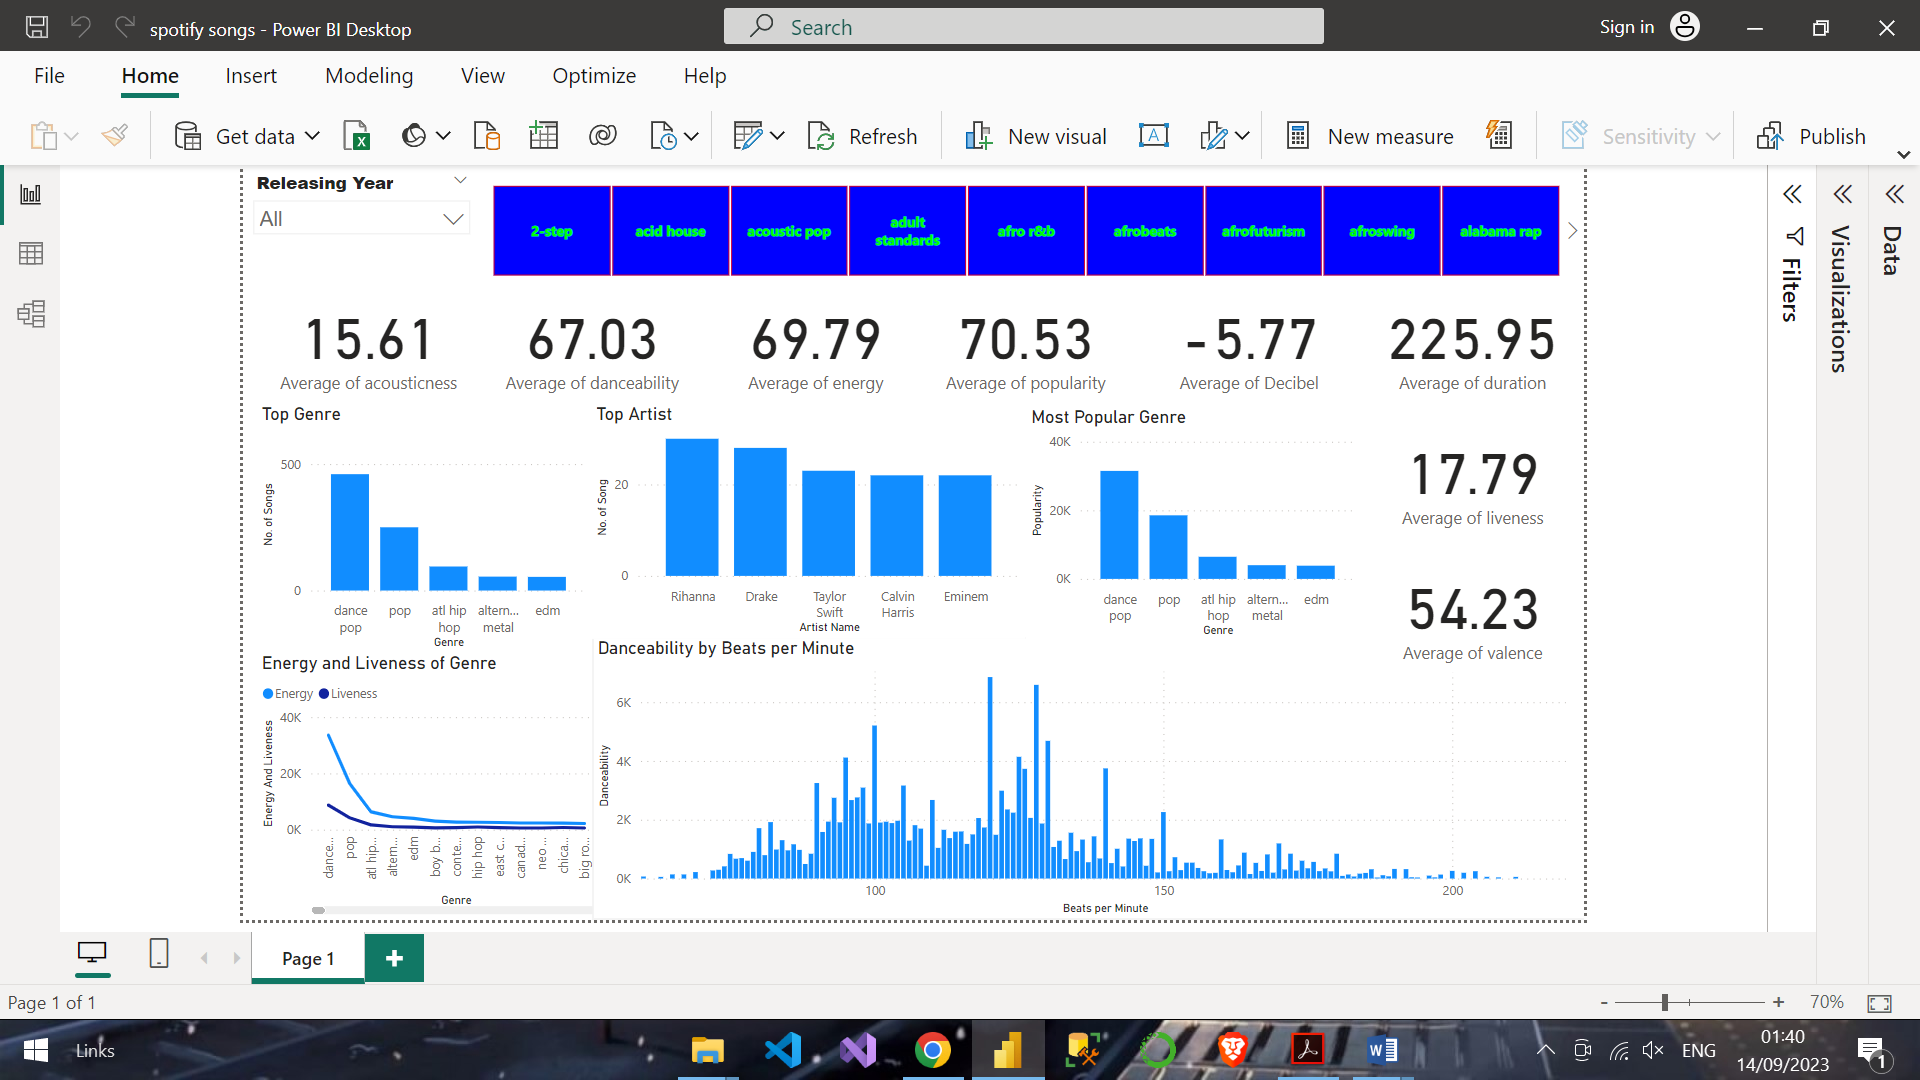

What the dashboard file says about the page in this screenshot:
{"tool":"powerbi","page":{"name":"Page 1","canvas":[1280,720],"ordinal":0},"visuals":[{"type":"card","fields":{"Values":["Best Songs on Spotify from 2000-2023.duration"]},"box":[1066.7,113.2,213.3,113.2],"z":0},{"type":"slicer","fields":{"Values":["Best Songs on Spotify from 2000-2023.top genre"]},"box":[213.3,0,1066.7,112.5],"z":1000},{"type":"slicer","fields":{"Values":["Best Songs on Spotify from 2000-2023.Releasing Year"]},"box":[0,0,226.5,113.2],"z":2000},{"type":"card","fields":{"Values":["Best Songs on Spotify from 2000-2023.Decibel"]},"box":[853.3,113.2,213.3,113.2],"z":3000},{"type":"card","fields":{"Values":["Best Songs on Spotify from 2000-2023.popularity"]},"box":[640,113.2,213.3,113.2],"z":4000},{"type":"card","fields":{"Values":["Best Songs on Spotify from 2000-2023.energy"]},"box":[439.8,113.2,213.3,113.2],"z":5000},{"type":"card","fields":{"Values":["Best Songs on Spotify from 2000-2023.danceability"]},"box":[226.5,113.2,213.3,113.2],"z":6000},{"type":"card","fields":{"Values":["Best Songs on Spotify from 2000-2023.acousticness"]},"box":[13.1,113.2,213.3,113.2],"z":7000},{"type":"clusteredColumnChart","title":"Top Genre","fields":{"Category":["Best Songs on Spotify from 2000-2023.top genre"],"Y":["Best Songs on Spotify from 2000-2023.top genre"]},"box":[12.9,227.1,320.5,238.6],"z":8000},{"type":"lineChart","title":"Energy and Liveness of Genre","fields":{"Y":["Best Songs on Spotify from 2000-2023.energy","Best Songs on Spotify from 2000-2023.liveness"],"Category":["Best Songs on Spotify from 2000-2023.top genre"]},"box":[13,465.1,334.1,254.9],"z":9000},{"type":"columnChart","fields":{"Category":["Best Songs on Spotify from 2000-2023.Beats per Minute"],"Y":["Best Songs on Spotify from 2000-2023.danceability"]},"box":[333.4,451.3,947.1,268.7],"z":10000},{"type":"columnChart","title":"Top Artist","fields":{"Category":["Best Songs on Spotify from 2000-2023.artist"],"Y":["Best Songs on Spotify from 2000-2023.top genre"]},"box":[332.6,227.5,414.7,224.6],"z":11000},{"type":"columnChart","title":"Most Popular Genre","fields":{"Category":["Best Songs on Spotify from 2000-2023.top genre"],"Y":["Best Songs on Spotify from 2000-2023.popularity"]},"box":[747.4,230.4,319.7,224.6],"z":12000},{"type":"card","fields":{"Values":["Best Songs on Spotify from 2000-2023.liveness"]},"box":[1066.7,241.2,213.3,113.2],"z":13000},{"type":"card","fields":{"Values":["Best Songs on Spotify from 2000-2023.valence"]},"box":[1066.7,370.9,213.3,113.2],"z":14000}]}

Visuals, with their boxes on the page's 1280x720 design canvas (x1, y1, x2, y2). These are canvas units, not pixel positions in the 1920x1080 screenshot, which may show the page scaled, cropped or inside an application window:
card - Best Songs on Spotify from 2000-2023.duration: detection(1067, 113, 1280, 226)
slicer - Best Songs on Spotify from 2000-2023.top genre: detection(213, 0, 1280, 112)
slicer - Best Songs on Spotify from 2000-2023.Releasing Year: detection(0, 0, 226, 113)
card - Best Songs on Spotify from 2000-2023.Decibel: detection(853, 113, 1067, 226)
card - Best Songs on Spotify from 2000-2023.popularity: detection(640, 113, 853, 226)
card - Best Songs on Spotify from 2000-2023.energy: detection(440, 113, 653, 226)
card - Best Songs on Spotify from 2000-2023.danceability: detection(226, 113, 440, 226)
card - Best Songs on Spotify from 2000-2023.acousticness: detection(13, 113, 226, 226)
"Top Genre" clusteredColumnChart: detection(13, 227, 333, 466)
"Energy and Liveness of Genre" lineChart: detection(13, 465, 347, 720)
columnChart - Best Songs on Spotify from 2000-2023.Beats per Minute x Best Songs on Spotify from 2000-2023.danceability: detection(333, 451, 1280, 720)
"Top Artist" columnChart: detection(333, 228, 747, 452)
"Most Popular Genre" columnChart: detection(747, 230, 1067, 455)
card - Best Songs on Spotify from 2000-2023.liveness: detection(1067, 241, 1280, 354)
card - Best Songs on Spotify from 2000-2023.valence: detection(1067, 371, 1280, 484)
